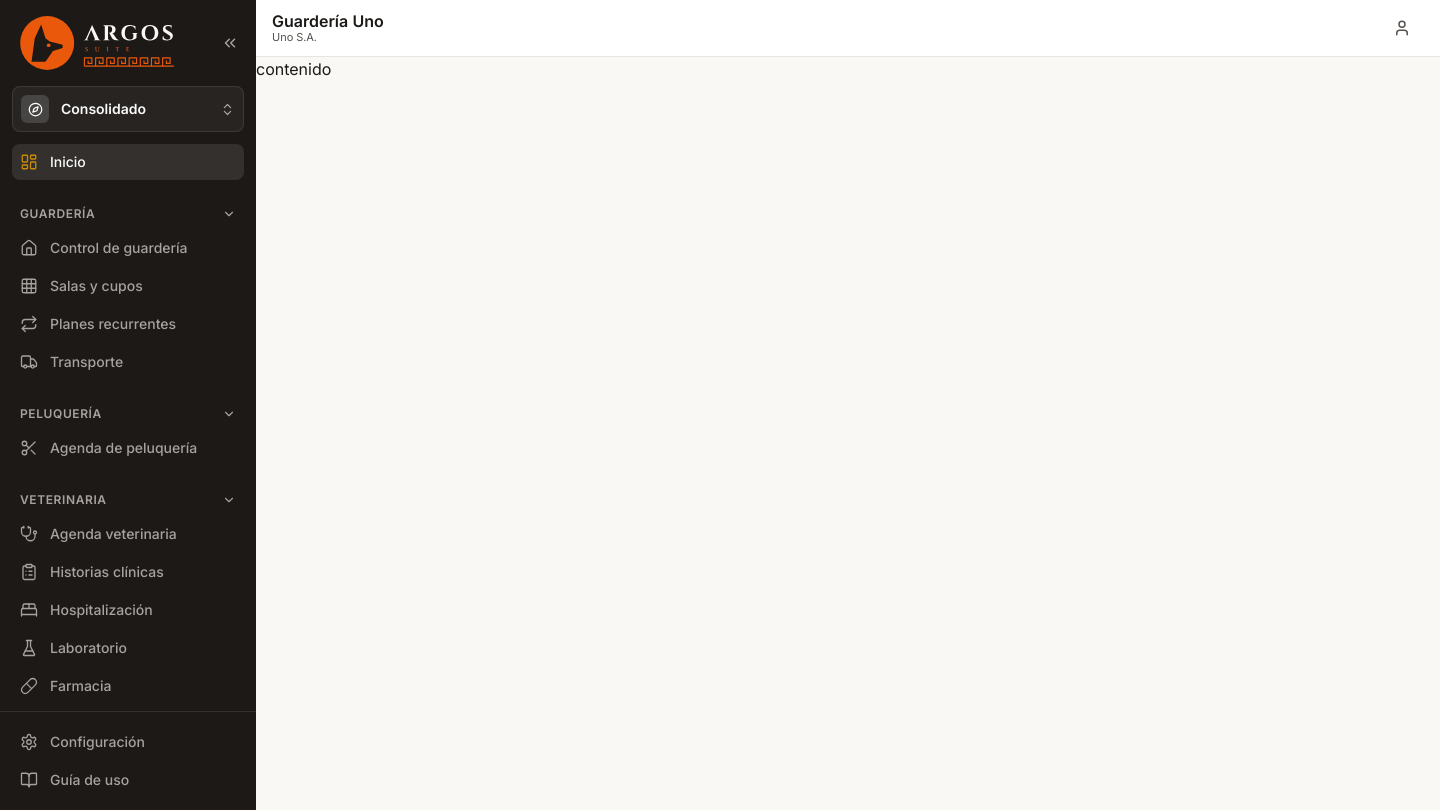
Test: unit switcher › offers and selects the clinic unit when the daycare bought it
Click the button with aria-label "Unidad de negocio" at [128, 109], box [12,86,244,132]
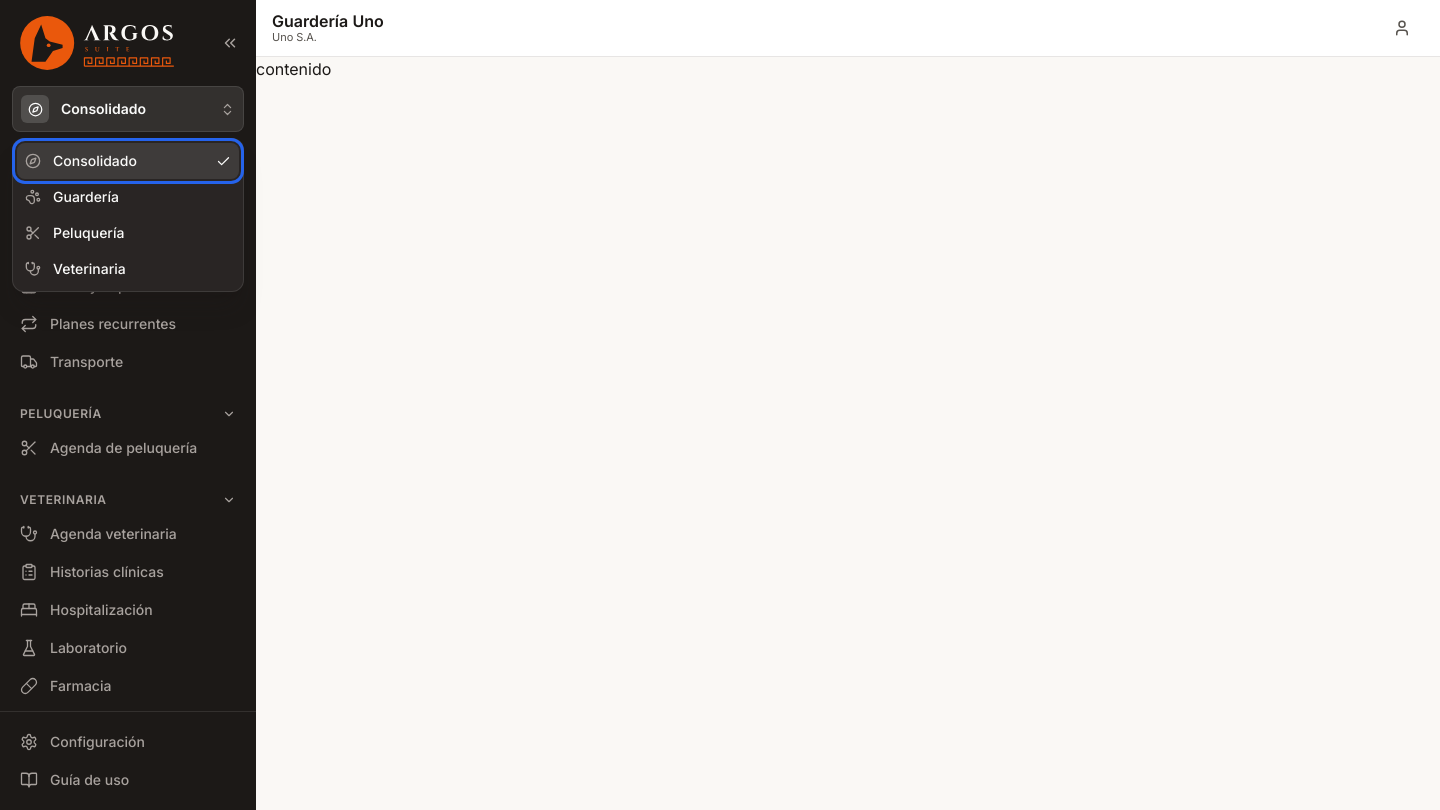
Click the menu item "Veterinaria" at [128, 269], box [17,251,239,287]
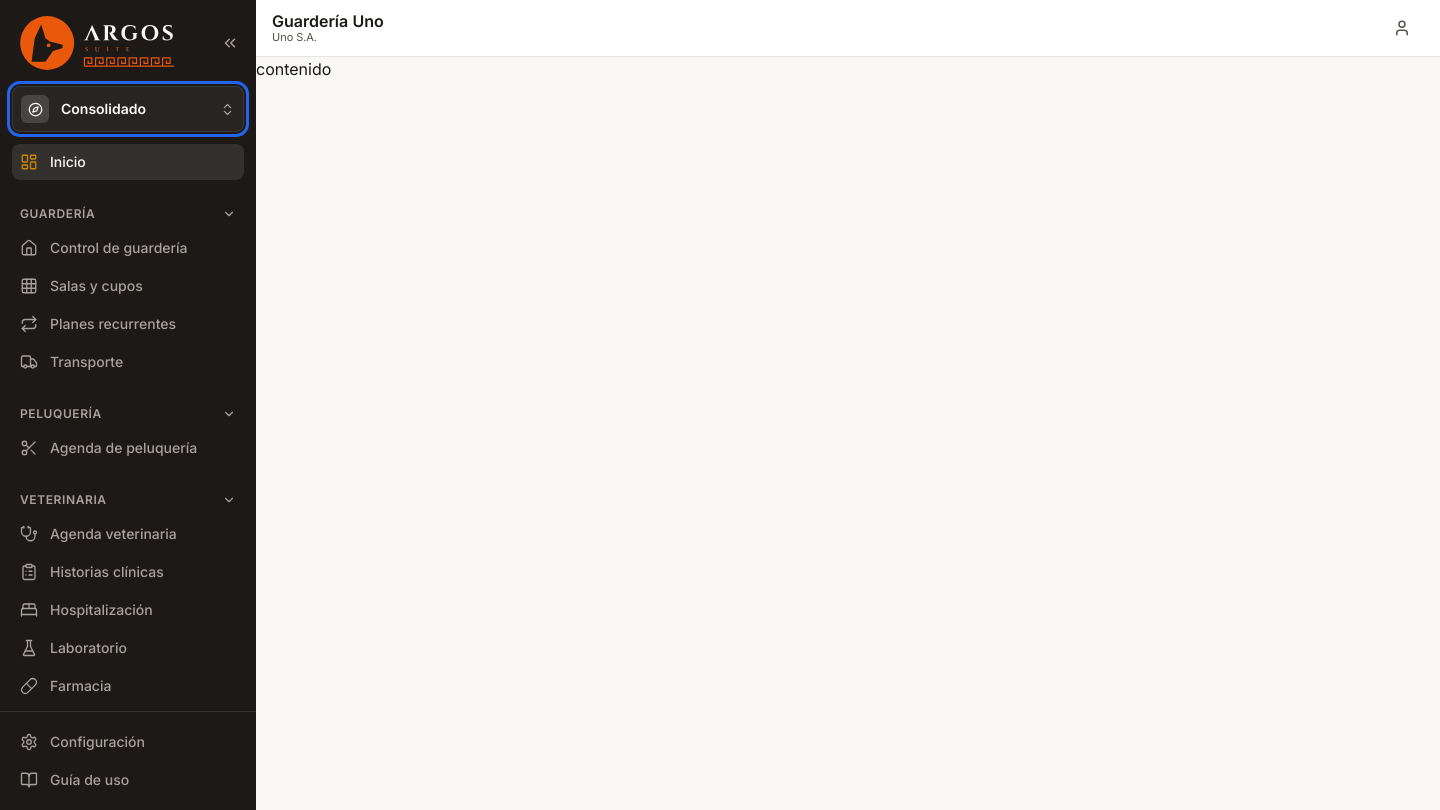
Now the menu is gone
